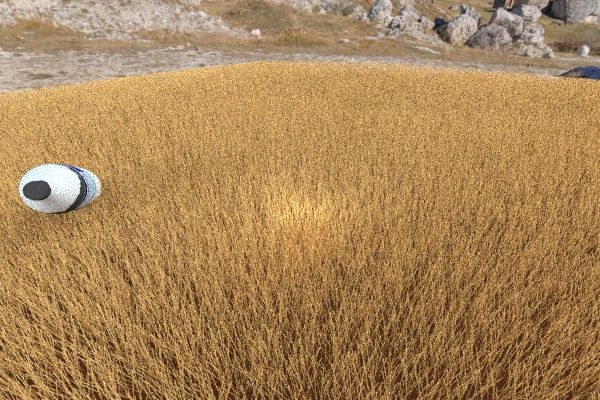Plastic Bottle: (19, 163, 101, 214), (286, 109, 341, 140), (324, 72, 356, 90)
